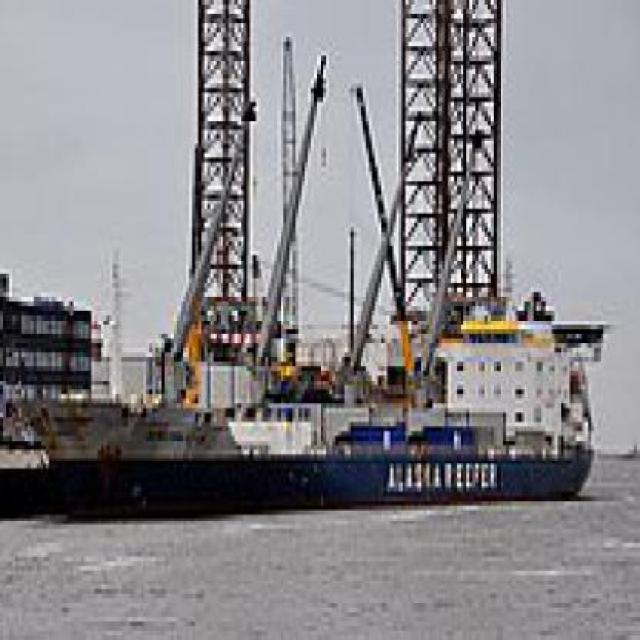container: (1, 270, 619, 534)
